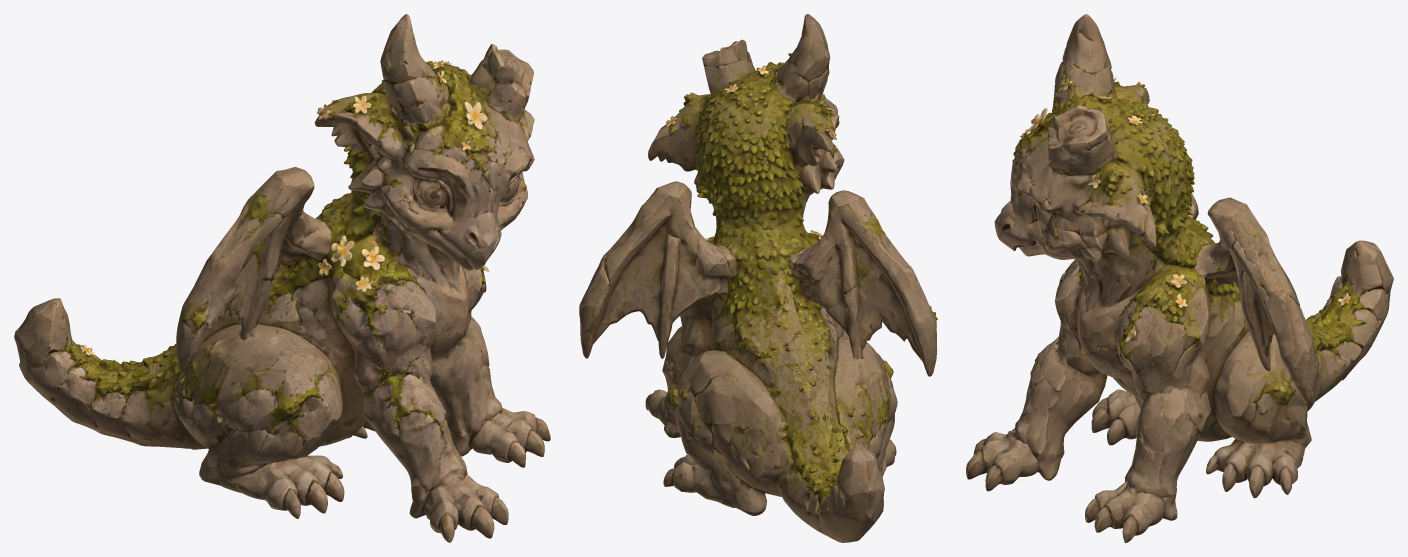
The model's file is figurine-gargouille.glb.
3 views of the same model, side by side, from view 1: azimuth 30°, elevation 25°; view 2: azimuth 150°, elevation 25°; view 3: azimuth 270°, elevation 25° (orthographic). The views are drawn at different scales.
Parts seen in each view (by area): view 1: tripo_node_99d4a41c-a8aa-4eab-9c0b-7cc489cfc8ca; view 2: tripo_node_99d4a41c-a8aa-4eab-9c0b-7cc489cfc8ca; view 3: tripo_node_99d4a41c-a8aa-4eab-9c0b-7cc489cfc8ca.
Boxes of the visible parts, x1,y1,x2,y2 form: tripo_node_99d4a41c-a8aa-4eab-9c0b-7cc489cfc8ca: (14, 14, 550, 542); tripo_node_99d4a41c-a8aa-4eab-9c0b-7cc489cfc8ca: (579, 14, 937, 542); tripo_node_99d4a41c-a8aa-4eab-9c0b-7cc489cfc8ca: (966, 14, 1393, 542).
Bounding box in the file's own units: 0.8477 × 0.9782 × 0.8318.
Materials: 1 (1 with a texture image).
